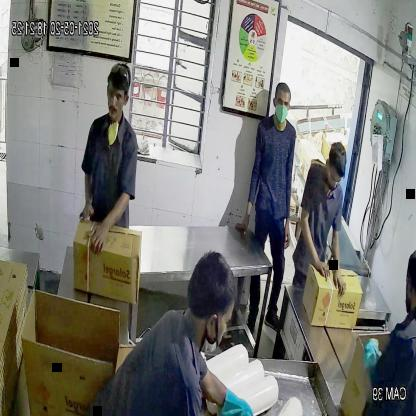no_goggles: (106, 86, 129, 104), (274, 93, 293, 111)
